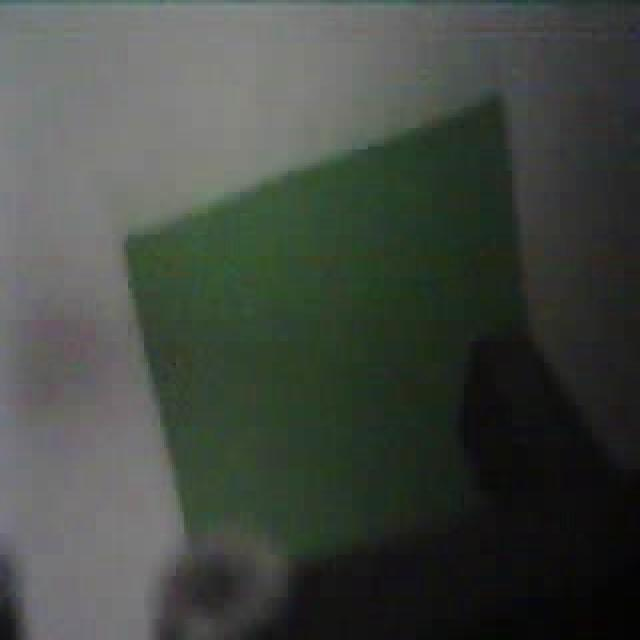green_box: (122, 91, 530, 568)
